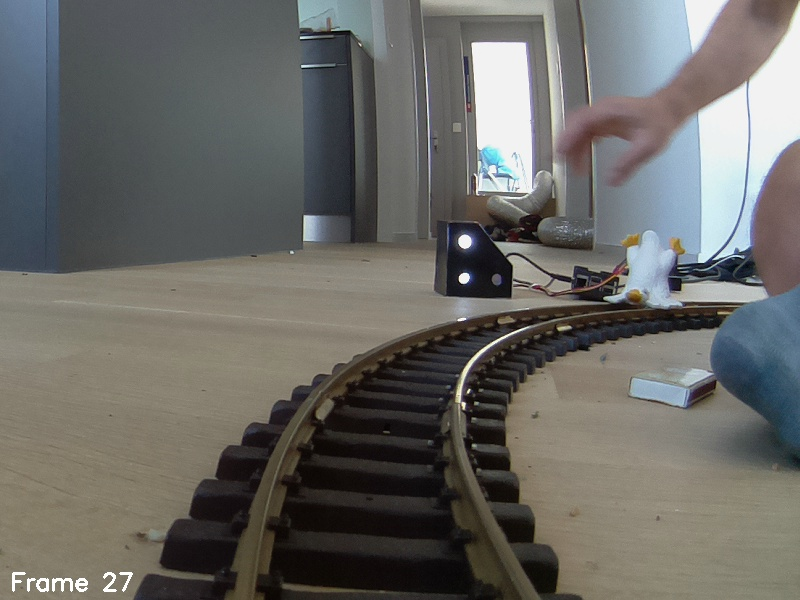Ente: (599, 228, 691, 318)
Fahrt: (430, 218, 517, 301)
